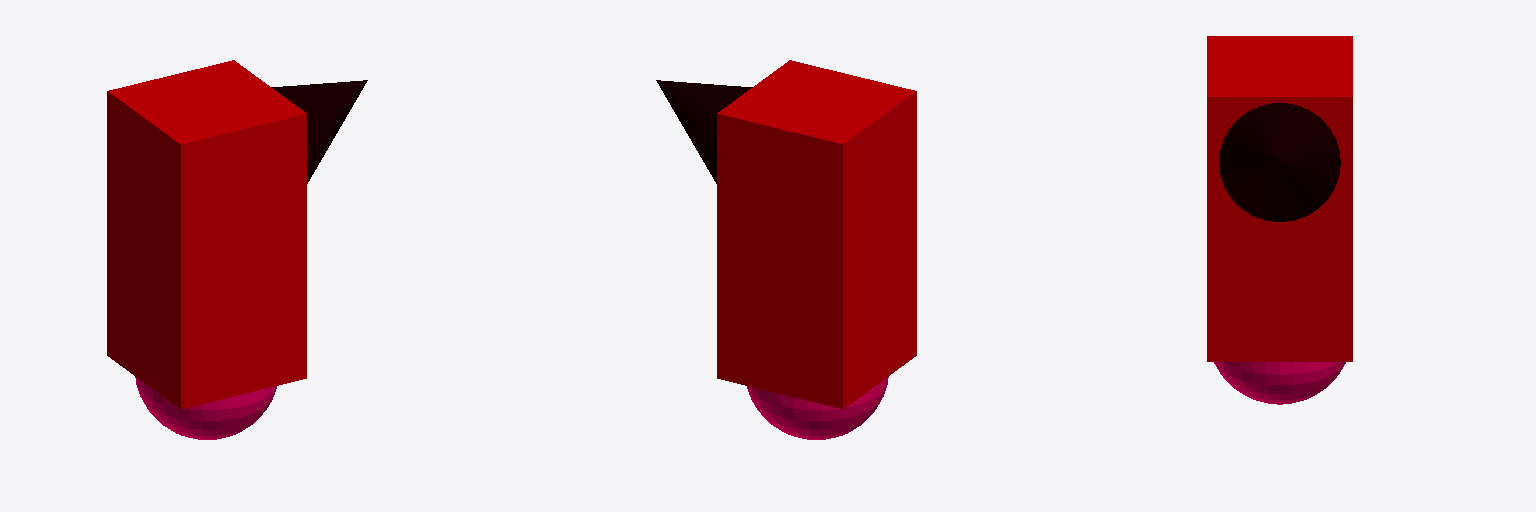
File: enemy.obj
The picture shows the model from 3 angles: view 1: azimuth 30°, elevation 25°; view 2: azimuth 150°, elevation 25°; view 3: azimuth 270°, elevation 25°; orthographic projection.
Parts seen in each view (by area): view 1: Cube, Sphere, Cone; view 2: Cube, Sphere, Cone; view 3: Cube, Cone, Sphere.
Part boxes in pixels (left/top/right/bottom): Cube: left=107, top=60, right=306, bottom=408; Sphere: left=135, top=377, right=276, bottom=439; Cone: left=271, top=80, right=367, bottom=183; Cube: left=717, top=60, right=916, bottom=408; Sphere: left=747, top=377, right=888, bottom=439; Cone: left=656, top=80, right=752, bottom=183; Cube: left=1207, top=36, right=1352, bottom=361; Cone: left=1219, top=103, right=1340, bottom=221; Sphere: left=1214, top=362, right=1345, bottom=404.
Bounding box in the file's own units: 1.77 × 2.5 × 1.